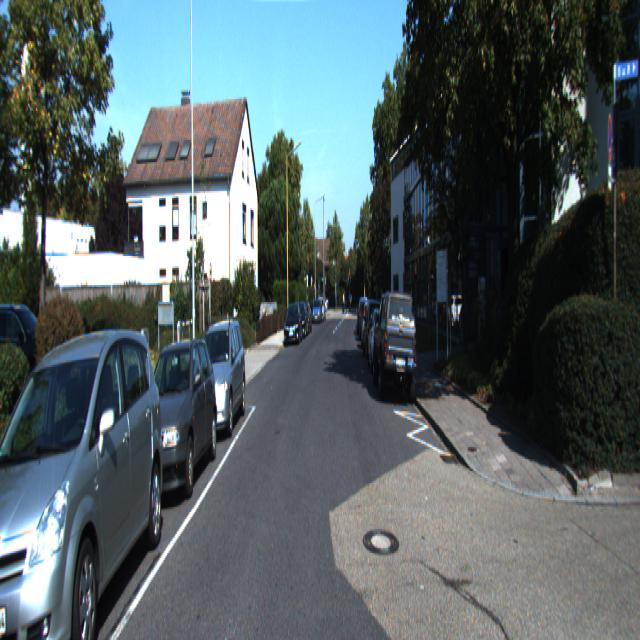Car: (0, 321, 169, 638), (127, 332, 219, 508), (185, 317, 247, 442), (372, 286, 419, 404), (284, 301, 302, 346), (312, 299, 323, 324)
